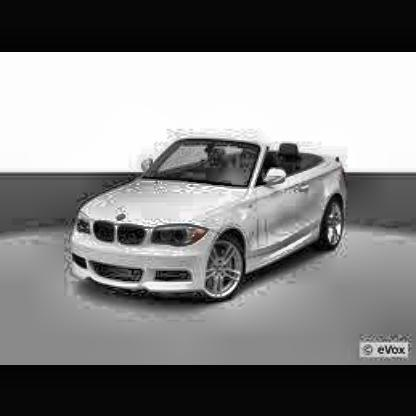BMW 1 Series Convertible 2012: (68, 132, 352, 307)
